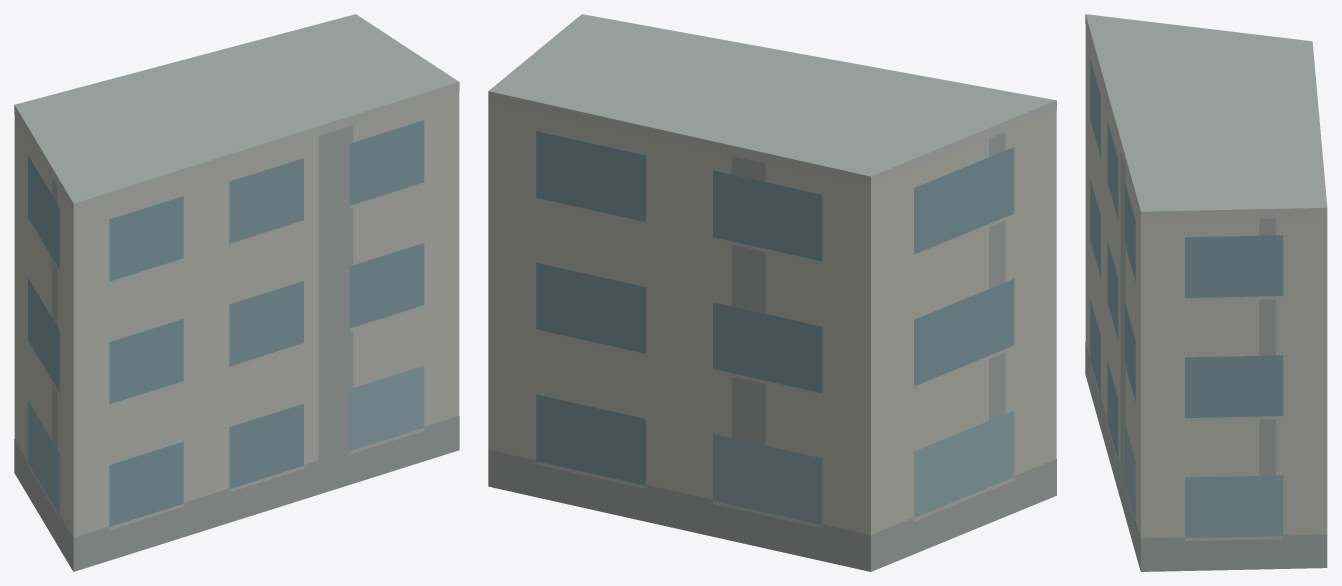
The model's file is survey-upis-32653785.glb.
The picture shows the model from 3 angles, left to right: view 1: azimuth 30°, elevation 25°; view 2: azimuth 150°, elevation 25°; view 3: azimuth 270°, elevation 25°; orthographic projection. The views are drawn at different scales.
Visible parts, largest first — view 1: survey-upis-32653785.tmp; view 2: survey-upis-32653785.tmp; view 3: survey-upis-32653785.tmp.
Boxes of the visible parts, x1,y1,x2,y2 form: survey-upis-32653785.tmp: [14, 14, 459, 571]; survey-upis-32653785.tmp: [488, 14, 1056, 571]; survey-upis-32653785.tmp: [1085, 14, 1327, 571].
Bounding box in the file's own units: 10.78 × 9.15 × 5.58.
